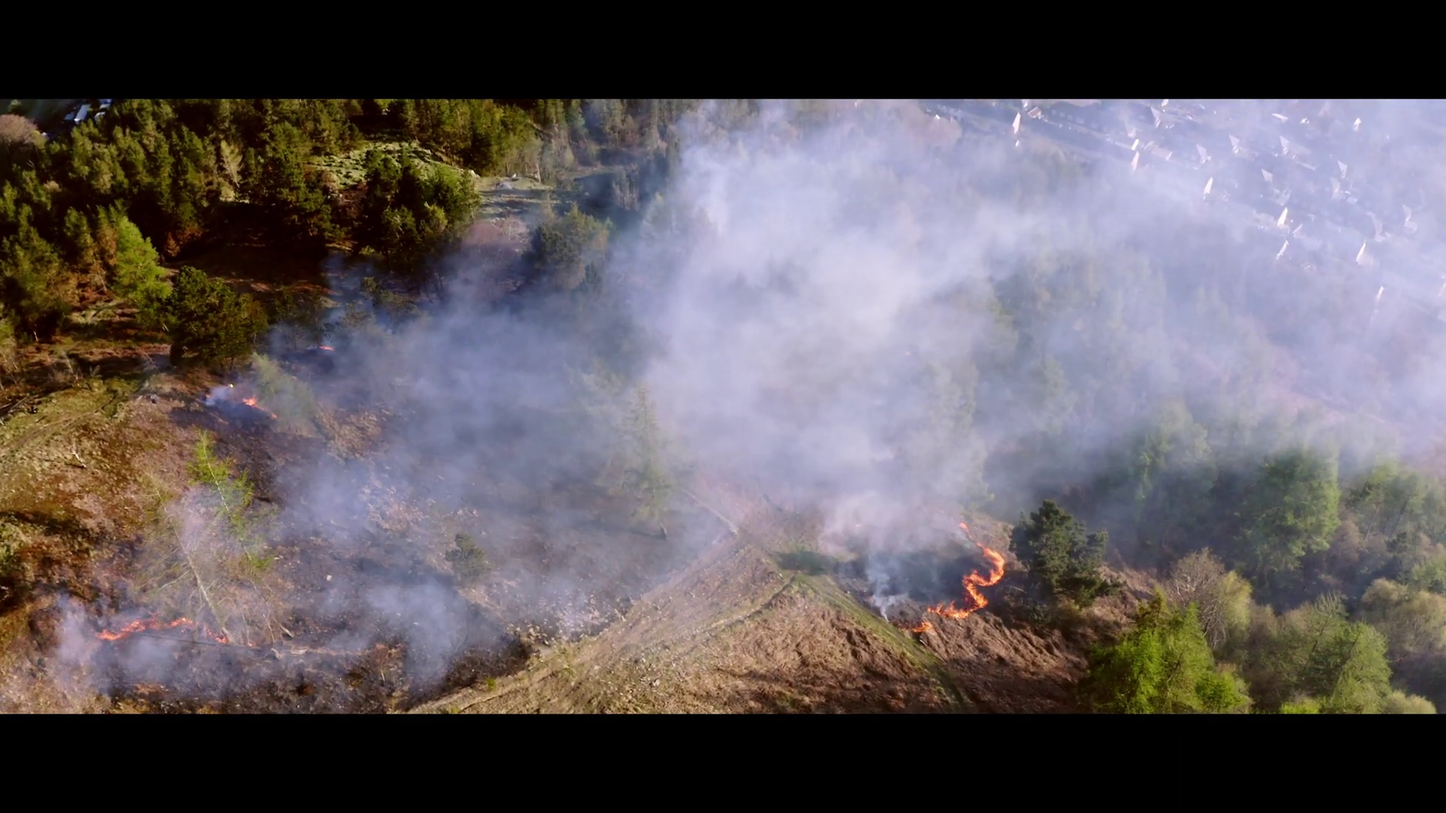forest_fire: (905, 522, 1005, 633), (96, 617, 228, 644)
